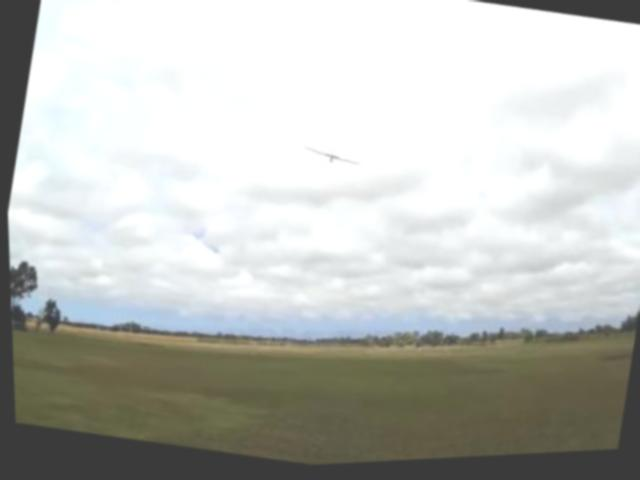uav: (292, 131, 369, 185)
